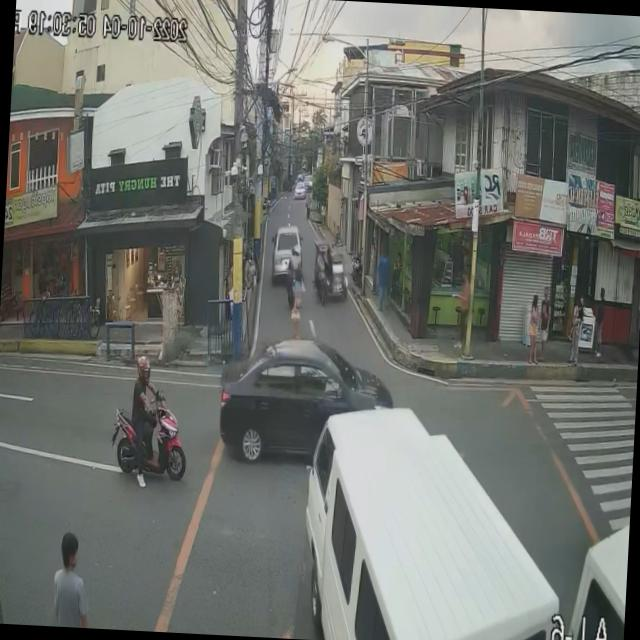full: (134, 356, 153, 387)
